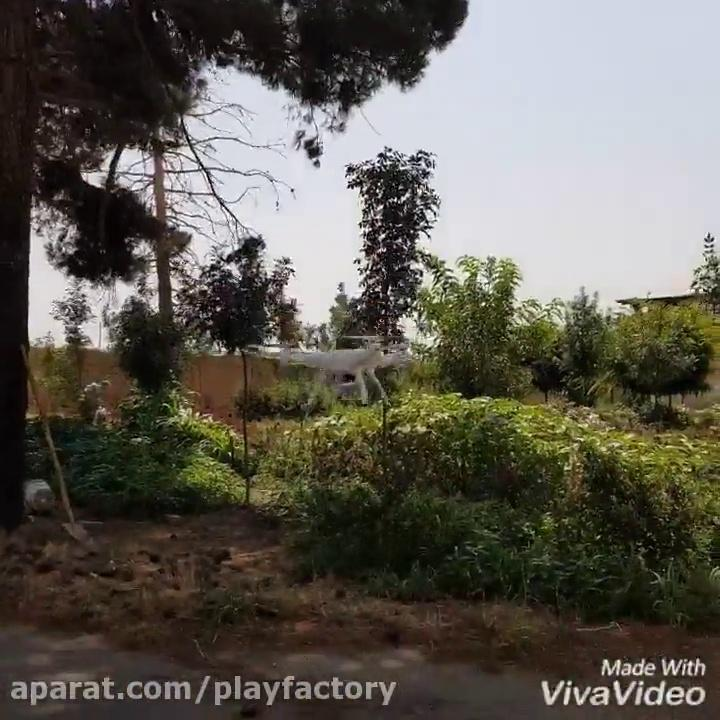drone: (244, 334, 422, 403)
